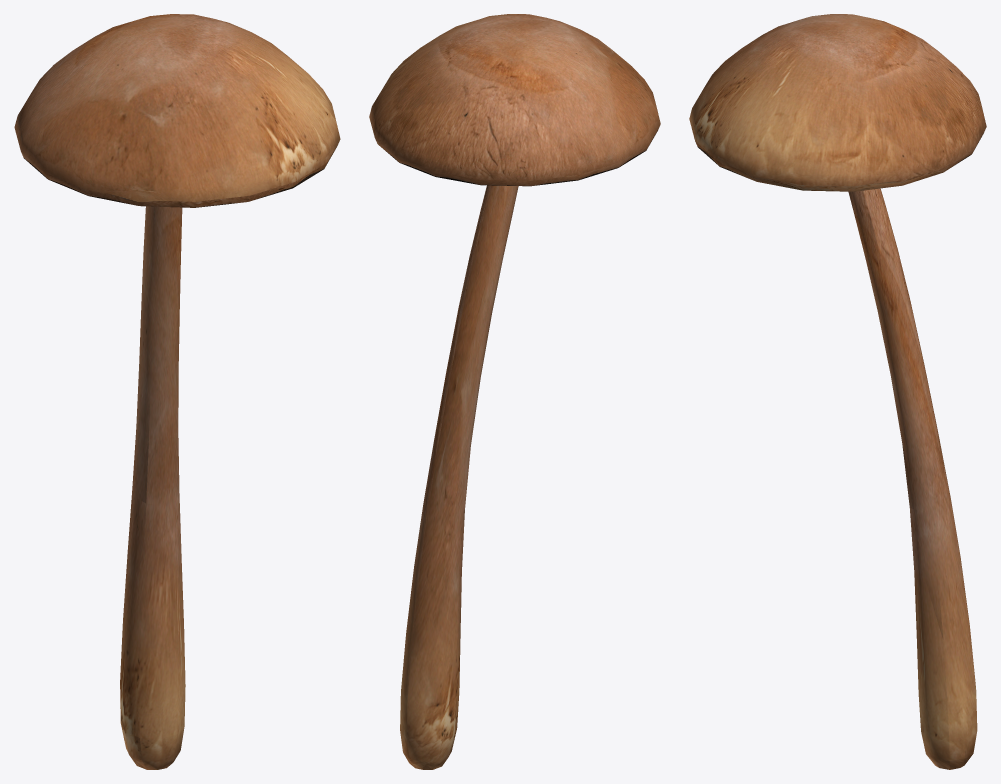
Rendered from MushroomBrownBig_LOD0.obj.
The picture shows the model from 3 angles, left to right: view 1: azimuth 30°, elevation 25°; view 2: azimuth 150°, elevation 25°; view 3: azimuth 270°, elevation 25°; orthographic projection. The views are drawn at different scales.
Parts seen in each view (by area): view 1: MushroomBrownBig_LOD0; view 2: MushroomBrownBig_LOD0; view 3: MushroomBrownBig_LOD0.
Boxes of the visible parts, x1=… form: MushroomBrownBig_LOD0: x1=14, y1=14, x2=340, y2=769; MushroomBrownBig_LOD0: x1=369, y1=14, x2=660, y2=769; MushroomBrownBig_LOD0: x1=689, y1=14, x2=986, y2=769.
Bounding box in the file's own units: 0.2265 × 0.6092 × 0.2273.
